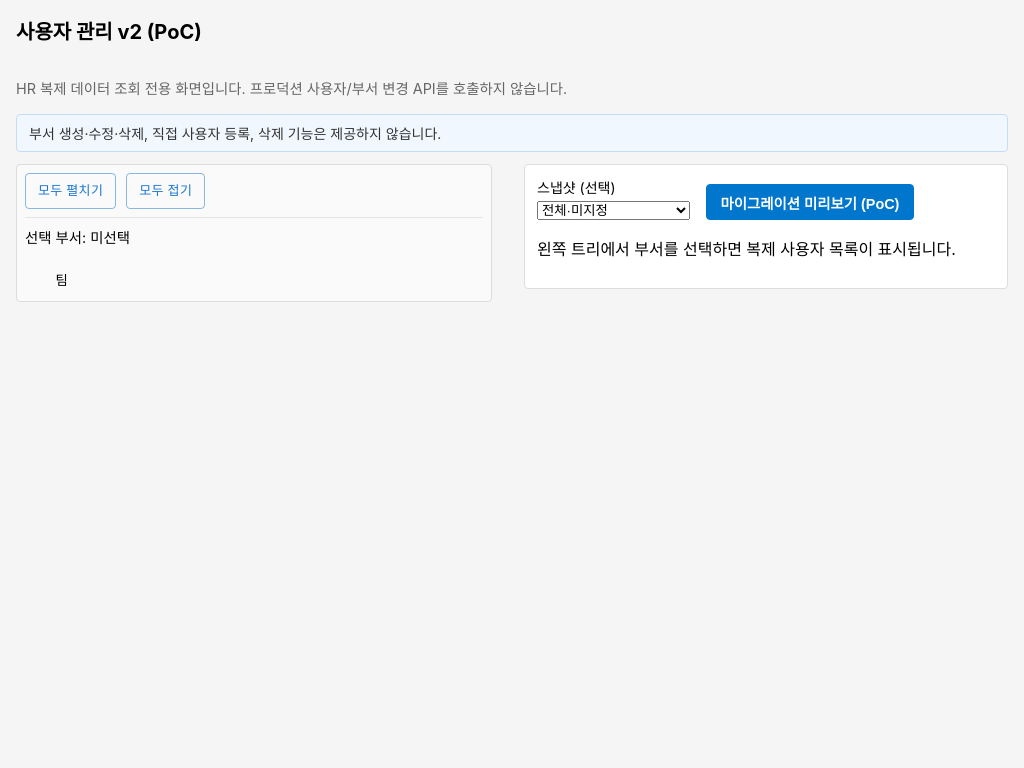
UserManagementPoc › selecting a department loads replica users
Click the button "팀" at x=62, y=280, box [49,267,74,293]
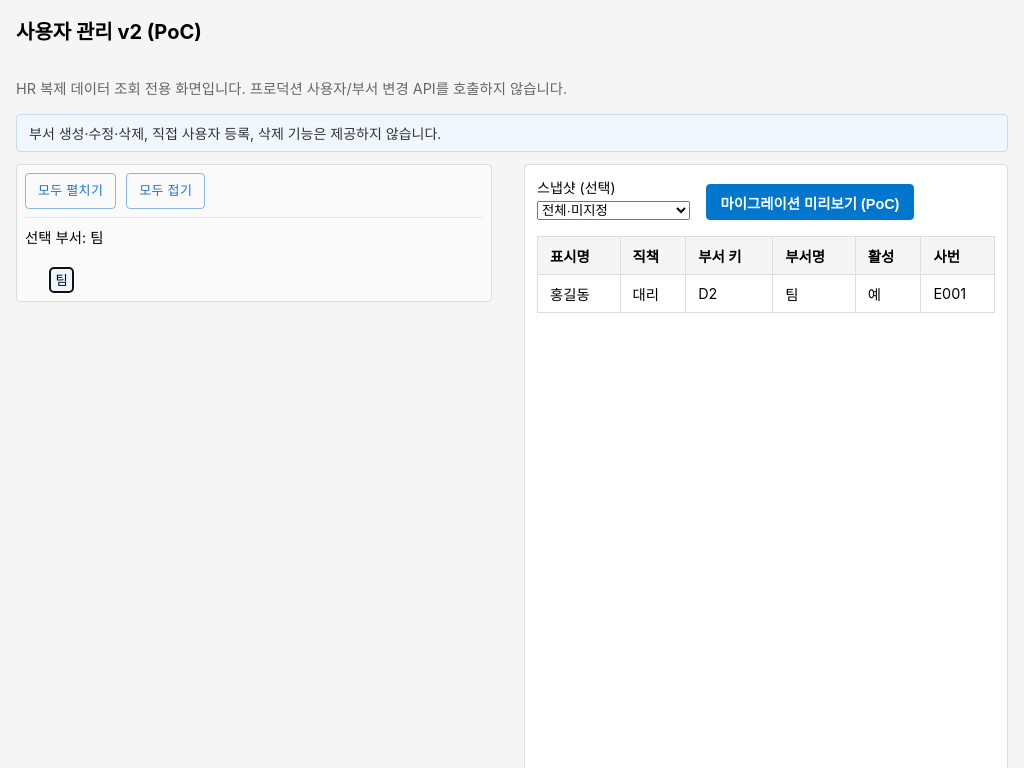
Result: the text "홍길동" is shown at [538,274,620,312]
